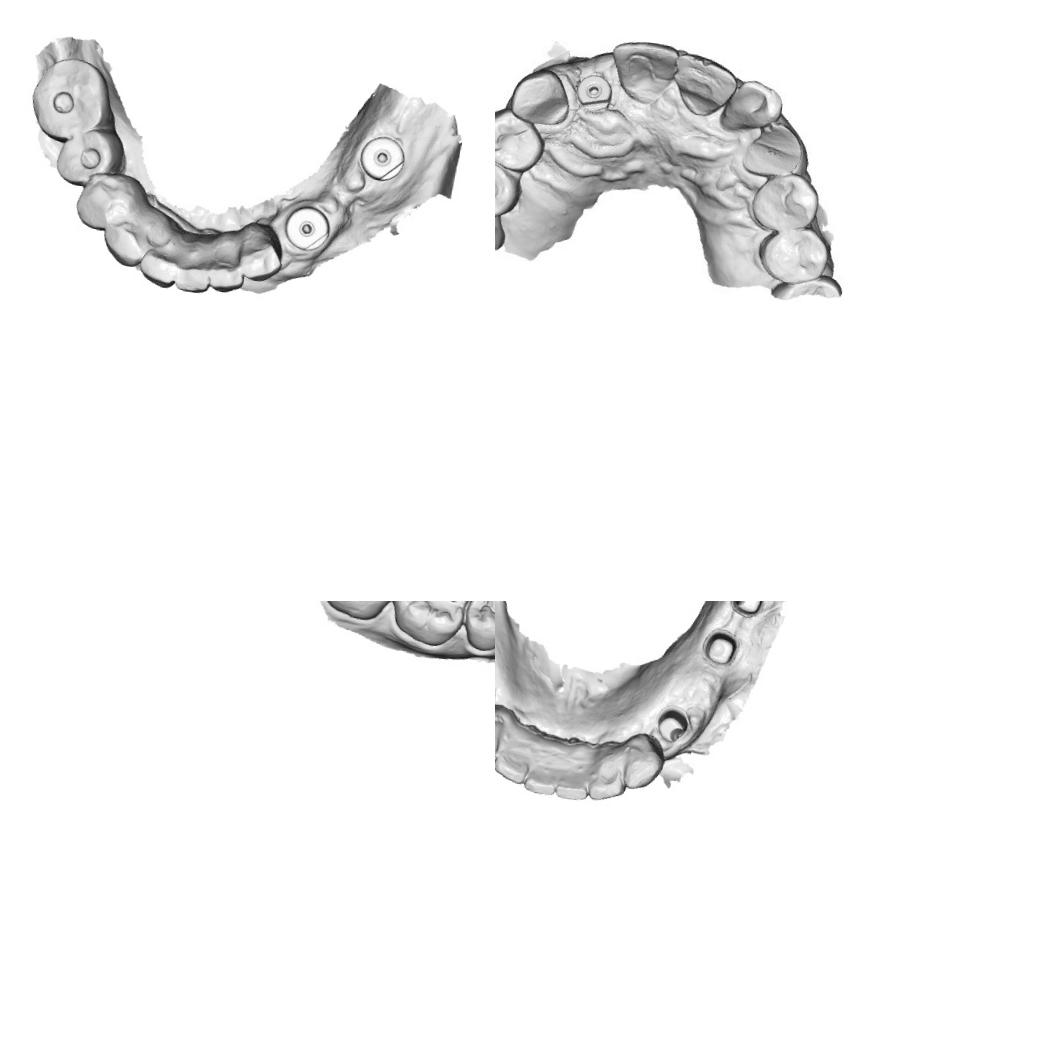abutment: (700, 627, 742, 668), (654, 705, 691, 746), (730, 601, 766, 617)
canine: (742, 116, 813, 184), (506, 64, 574, 132), (101, 210, 158, 269), (618, 730, 667, 793), (495, 710, 505, 762)
implant: (356, 132, 410, 184), (282, 202, 334, 254), (572, 68, 615, 112)
incisor: (606, 35, 683, 102), (672, 51, 740, 119), (720, 76, 787, 138), (585, 738, 631, 804), (521, 738, 563, 798), (552, 742, 594, 802), (170, 244, 217, 297), (135, 238, 182, 290), (240, 234, 284, 285), (206, 247, 248, 296), (495, 737, 532, 788)
molar: (25, 52, 115, 148), (386, 601, 473, 651), (313, 601, 405, 625)
premolar: (754, 223, 834, 287), (52, 124, 126, 190), (72, 168, 142, 236), (746, 169, 818, 234), (495, 105, 548, 174), (495, 150, 527, 225), (460, 601, 495, 655)
